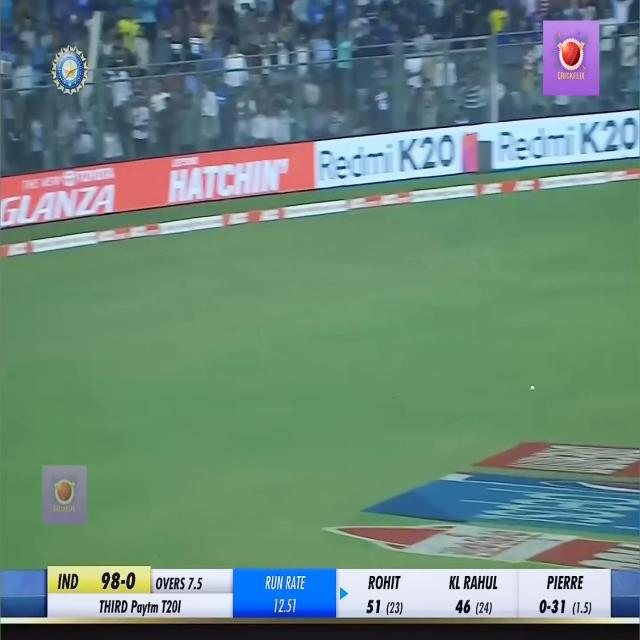fully_visible: (130, 593, 161, 623)
